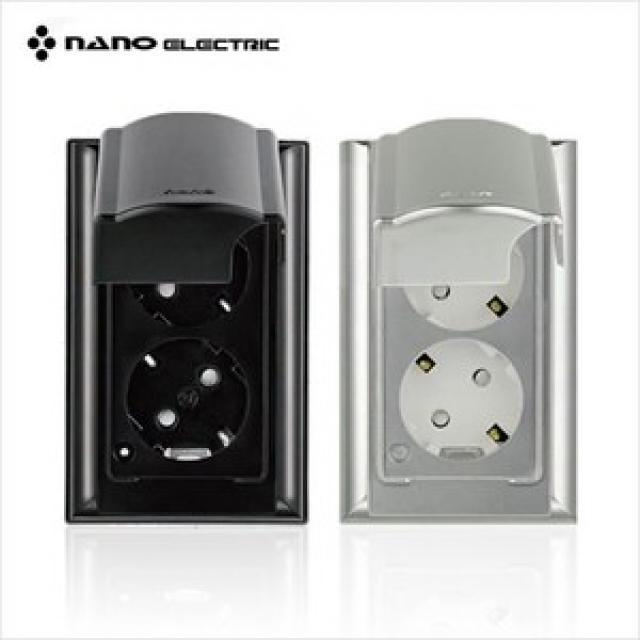typeb: (54, 101, 326, 586), (337, 102, 592, 580)
